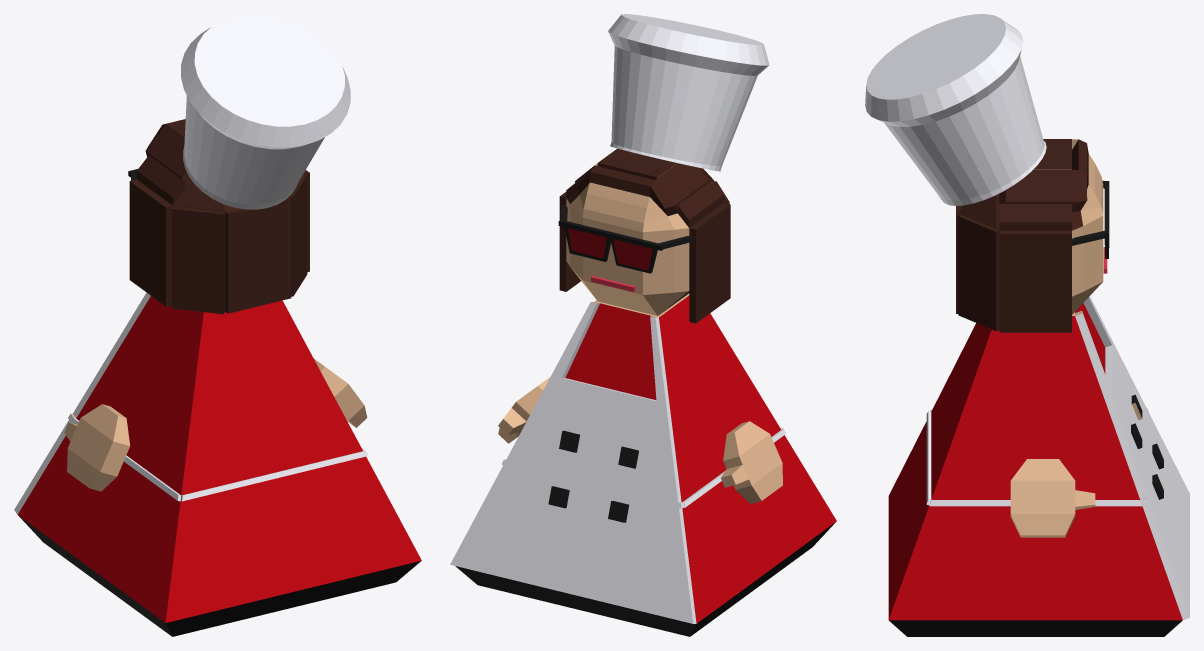
The model's file is Chef2 .fbx.
The picture shows the model from 3 angles, left to right: view 1: azimuth 30°, elevation 25°; view 2: azimuth 150°, elevation 25°; view 3: azimuth 270°, elevation 25°; orthographic projection. The views are drawn at different scales.
Parts seen in each view (by area): view 1: Cube; view 2: Cube; view 3: Cube.
Part boxes in pixels (left/top/right/bottom): Cube: left=14, top=14, right=421, bottom=636; Cube: left=450, top=14, right=836, bottom=636; Cube: left=865, top=14, right=1189, bottom=636.
Size of the model in its own units: 9.88 by 18.93 by 10.06.
